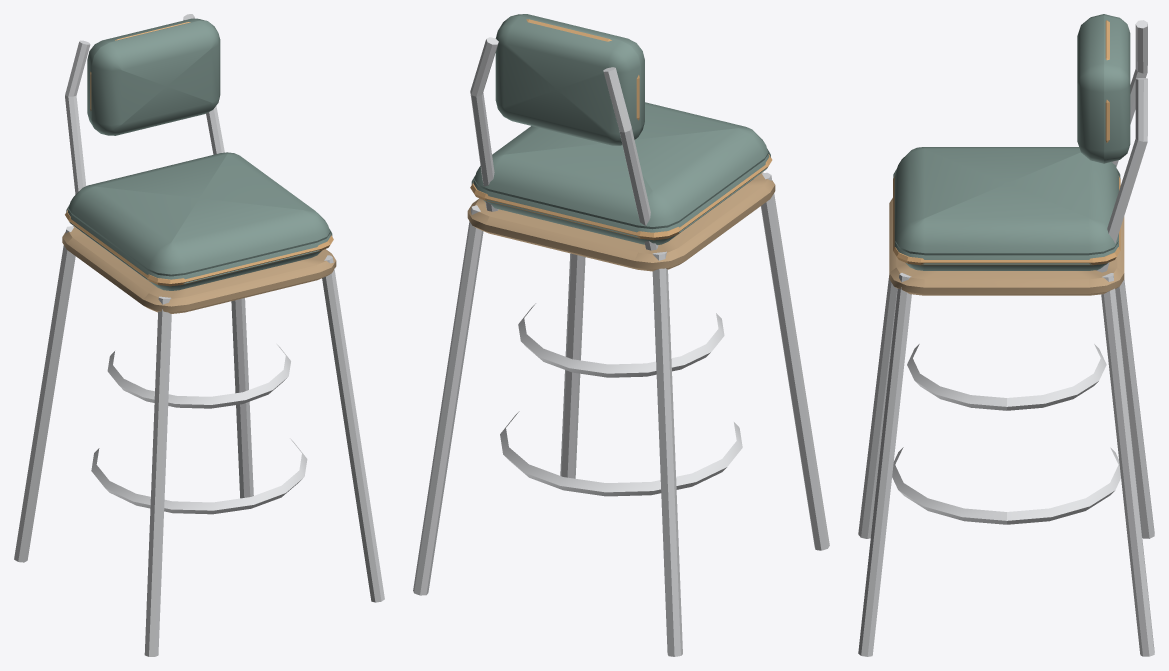
Rendered from bar-stool-counter.glb.
3 views of the same model, side by side, from view 1: azimuth 30°, elevation 25°; view 2: azimuth 150°, elevation 25°; view 3: azimuth 270°, elevation 25° (orthographic). The views are drawn at different scales.
Parts seen in each view (by area): view 1: bar-stool-counter; view 2: bar-stool-counter; view 3: bar-stool-counter.
Part boxes in pixels (left/top/right/bottom): bar-stool-counter: left=14, top=14, right=384, bottom=656; bar-stool-counter: left=413, top=14, right=829, bottom=656; bar-stool-counter: left=858, top=14, right=1154, bottom=656.
Size of the model in its own units: 0.5052 by 1.04 by 0.5046.
